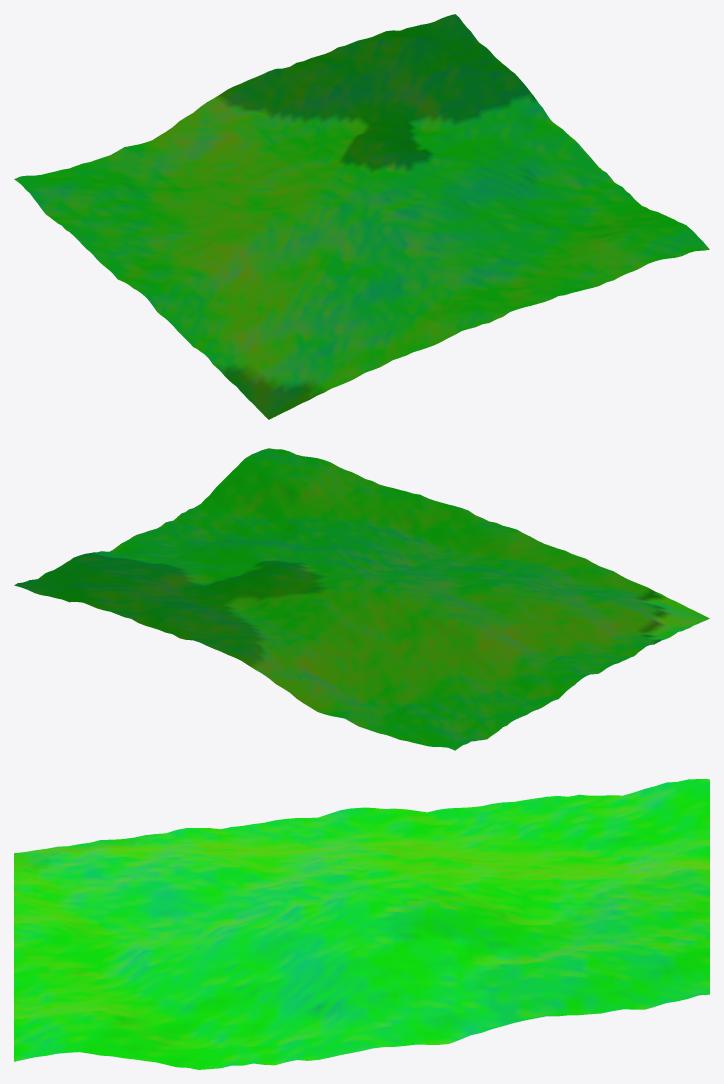
3 views of the same model, one above another, from view 1: azimuth 30°, elevation 25°; view 2: azimuth 150°, elevation 25°; view 3: azimuth 270°, elevation 25° (orthographic). The views are drawn at different scales.
Parts seen in each view (by area): view 1: Terrain; view 2: Terrain; view 3: Terrain.
Boxes of the visible parts, box(x1,y1,x2,y2) form: Terrain: box(14, 14, 709, 419); Terrain: box(14, 448, 709, 750); Terrain: box(14, 779, 709, 1069).
Size of the model in its own units: 64 by 15.6 by 64.
